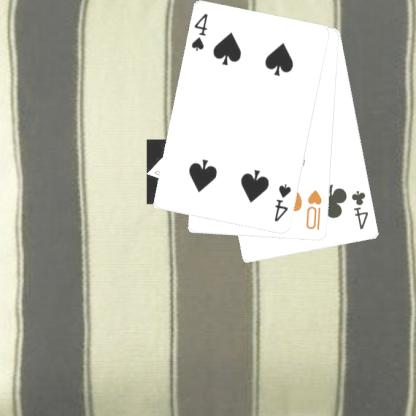10H: (304, 187, 323, 231)
4C: (348, 188, 370, 231)
4S: (188, 11, 210, 53), (272, 182, 293, 223)
